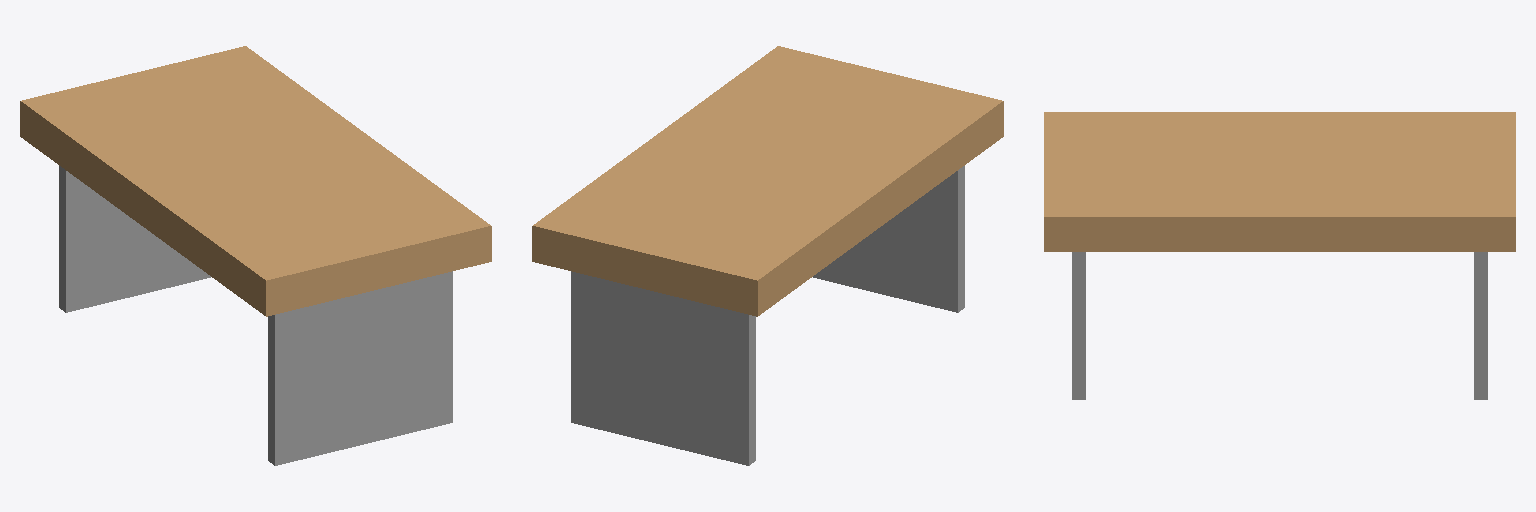
URDF robot description (wooden_table):
<robot name="wooden_table">
  <link name="wooden_table">
    <collision>
      <origin xyz="0 0 0.7017" />
      <geometry>
        <box size="0.8001 1.6002 0.038" />
      </geometry>
    </collision>
    <visual>
      <origin xyz="0 0 0.7017" />
      <material name="c">
        <color rgba="0.83 0.67 0.48 1.0" />
      </material>
      <geometry>
        <box size="0.8001 1.6002 0.038" />
      </geometry>
    </visual>
    <collision>
      <origin xyz="0 0.7239 0.346075" />
      <geometry>
        <box size="0.7112 0.0508 0.69215" />
      </geometry>
    </collision>
    <visual>
      <origin xyz="0 0.7239 0.346075" />
      <material name="c">
        <color rgba="0.7 0.7 0.7 1.0" />
      </material>
      <geometry>
        <box size="0.7112 0.0508 0.69215" />
      </geometry>
    </visual>
    <collision>
      <origin xyz="0 -0.7239 0.346075" />
      <geometry>
        <box size="0.7112 0.0508 0.69215" />
      </geometry>
    </collision>
    <visual>
      <origin xyz="0 -0.7239 0.346075" />
      <material name="c">
        <color rgba="0.7 0.7 0.7 1.0" />
      </material>
      <geometry>
        <box size="0.7112 0.0508 0.69215" />
      </geometry>
    </visual>
    <collision>
      <origin xyz="0 0 0.7017" />
      <geometry>
        <box size="0.9001 1.7002 0.138" />
      </geometry>
    </collision>
    <visual>
      <origin xyz="0 0 0.7017" />
      <material name="c">
        <color rgba="0.83 0.67 0.48 0.8" />
      </material>
      <geometry>
        <box size="0.9001 1.7002 0.138" />
      </geometry>
    </visual>
  </link>
</robot>

--- What the picture shows (computed from the rendered views, not written in the file) ---
Views: 3 orthographic renders of the robot side by side, from view 1: azimuth 30°, elevation 25°; view 2: azimuth 150°, elevation 25°; view 3: azimuth 270°, elevation 25°.
Model wooden_table with 1 links and 0 joints (none), rooted at wooden_table, posed every joint at zero.
Links seen in each view (by area): view 1: wooden_table; view 2: wooden_table; view 3: wooden_table.
Link boxes in pixels (x1,y1,x2,y2): wooden_table: (20,46,491,465); wooden_table: (532,46,1003,465); wooden_table: (1044,112,1515,399).
Size in the robot's own frame: 0.9001 by 1.7 by 0.7707 metres.
Geometry: primitives only (box / cylinder / sphere), no mesh files.